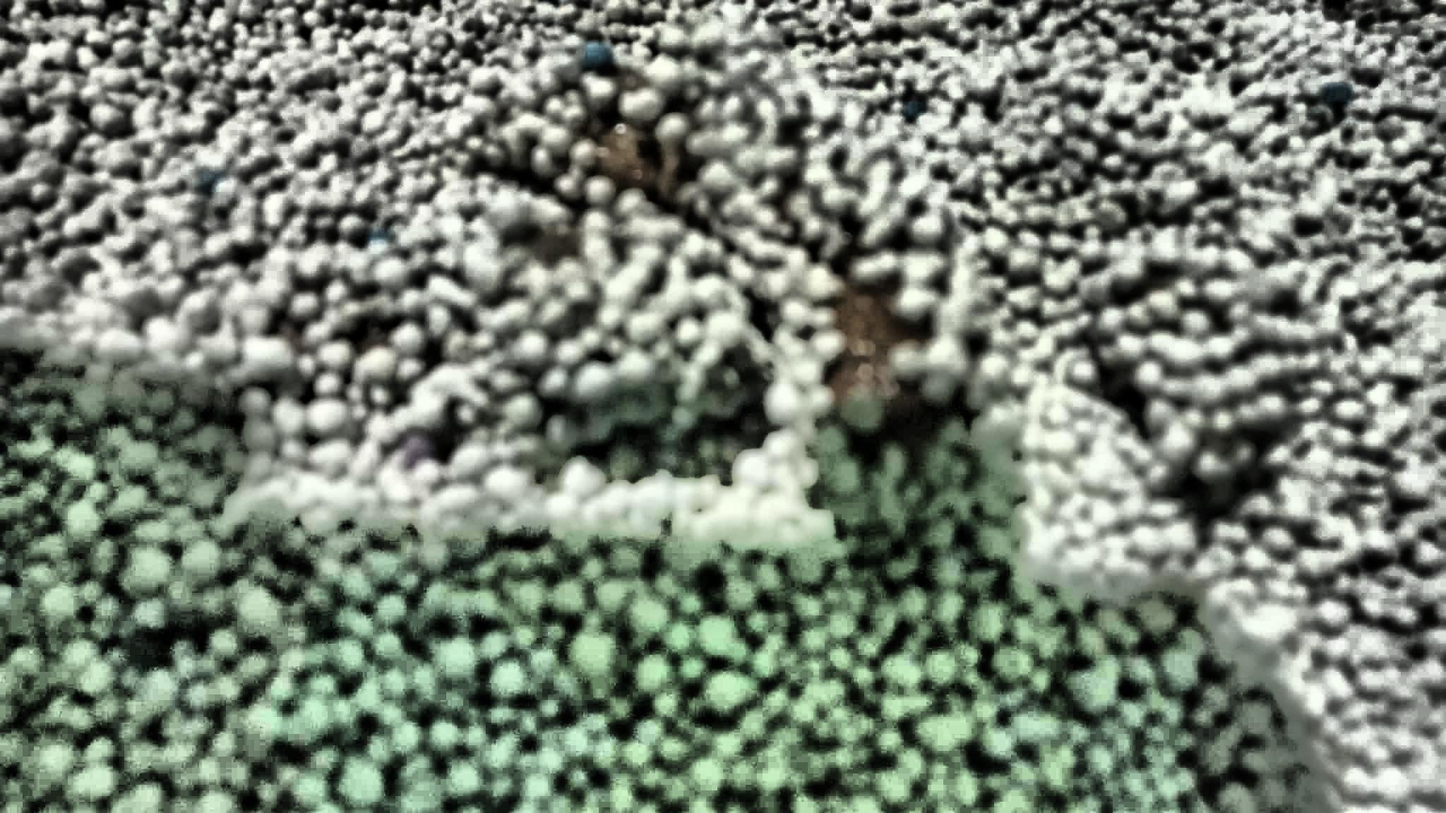poop: (135, 36, 972, 508), (1081, 237, 1326, 518)
